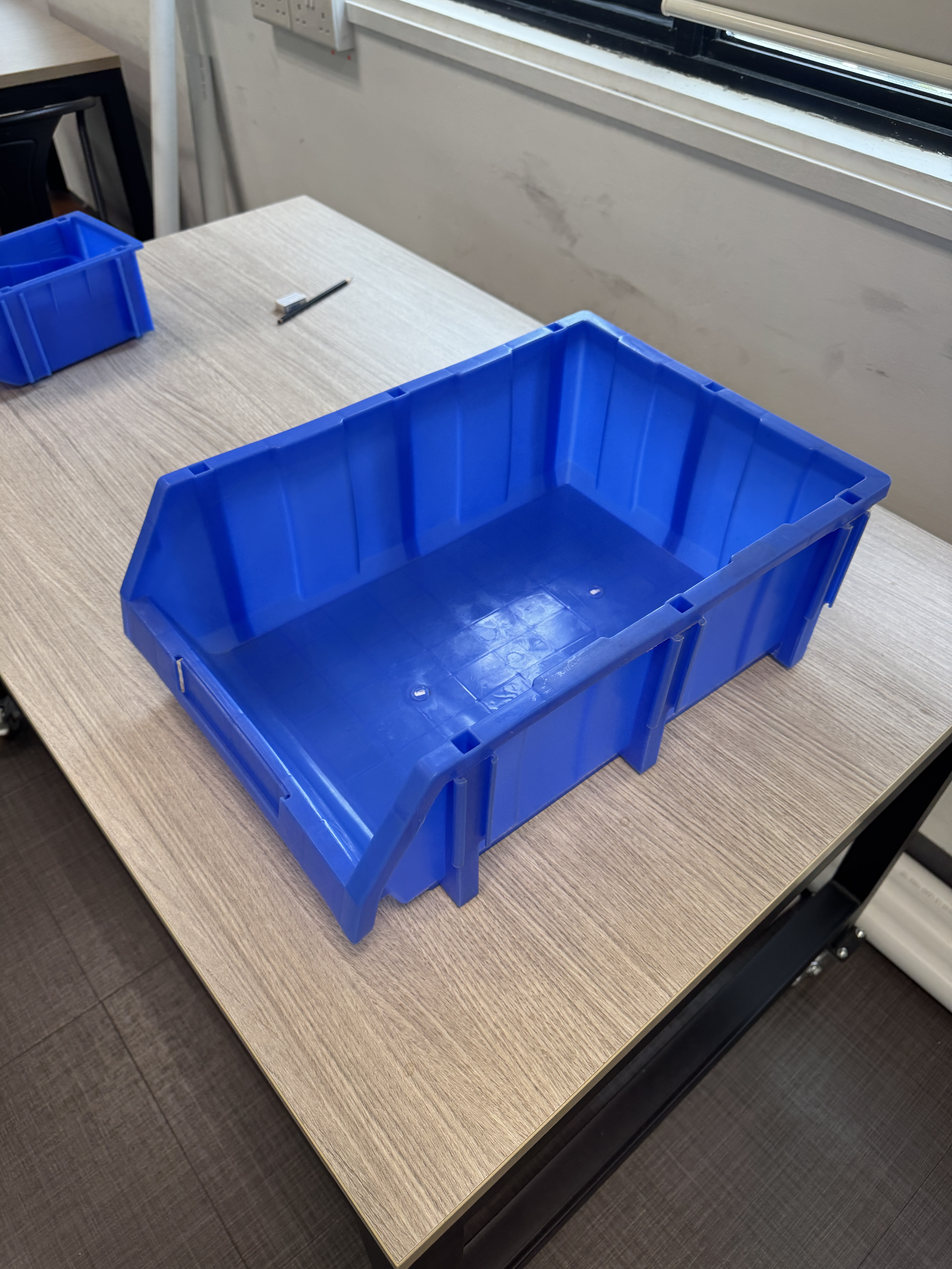Bin Boundary: (95, 137, 866, 879)
